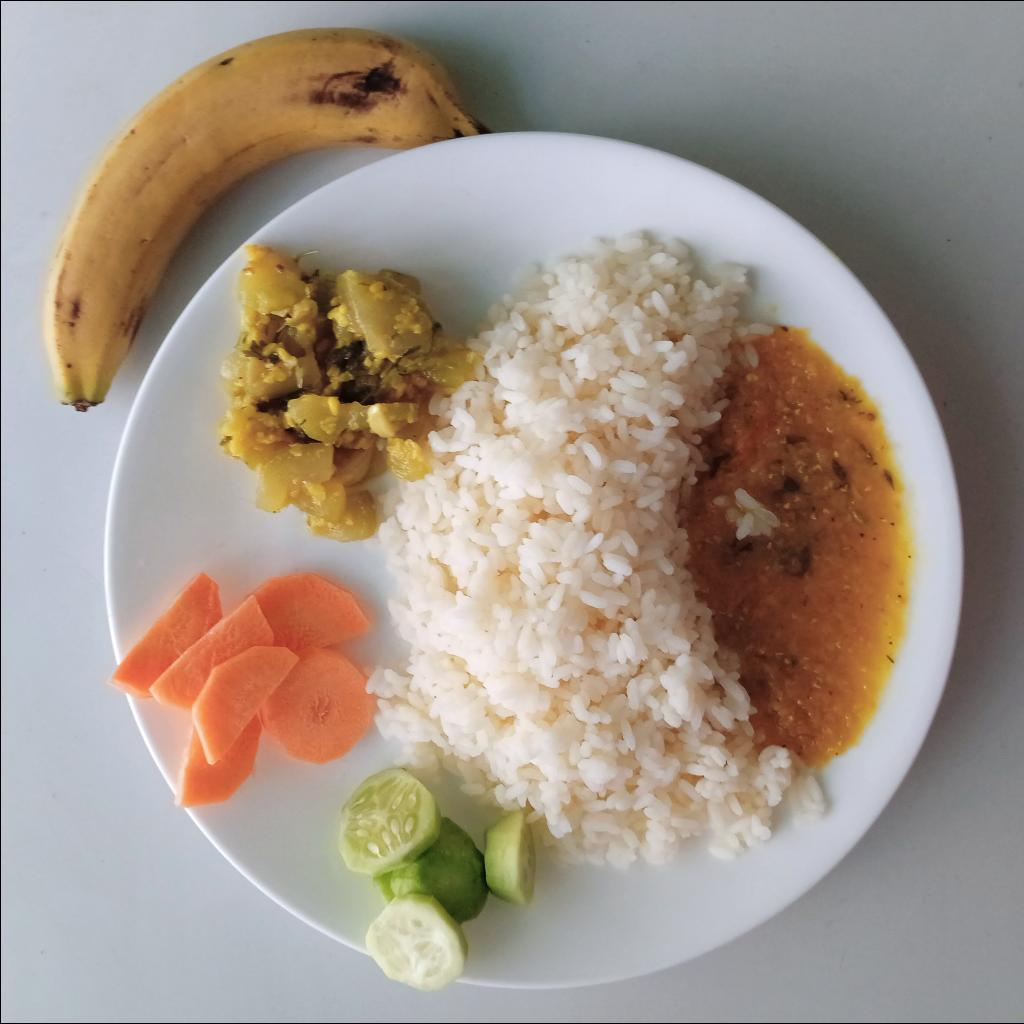banana: (42, 27, 492, 412)
carrot: (107, 572, 373, 808)
cucumber: (337, 768, 536, 994)
daal: (691, 333, 922, 775)
lau: (216, 245, 480, 543)
rice: (358, 233, 827, 873)
